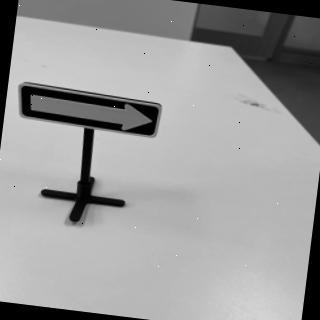sign_oneway_right: (15, 82, 165, 141)
